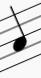note: (3, 2, 30, 66)
